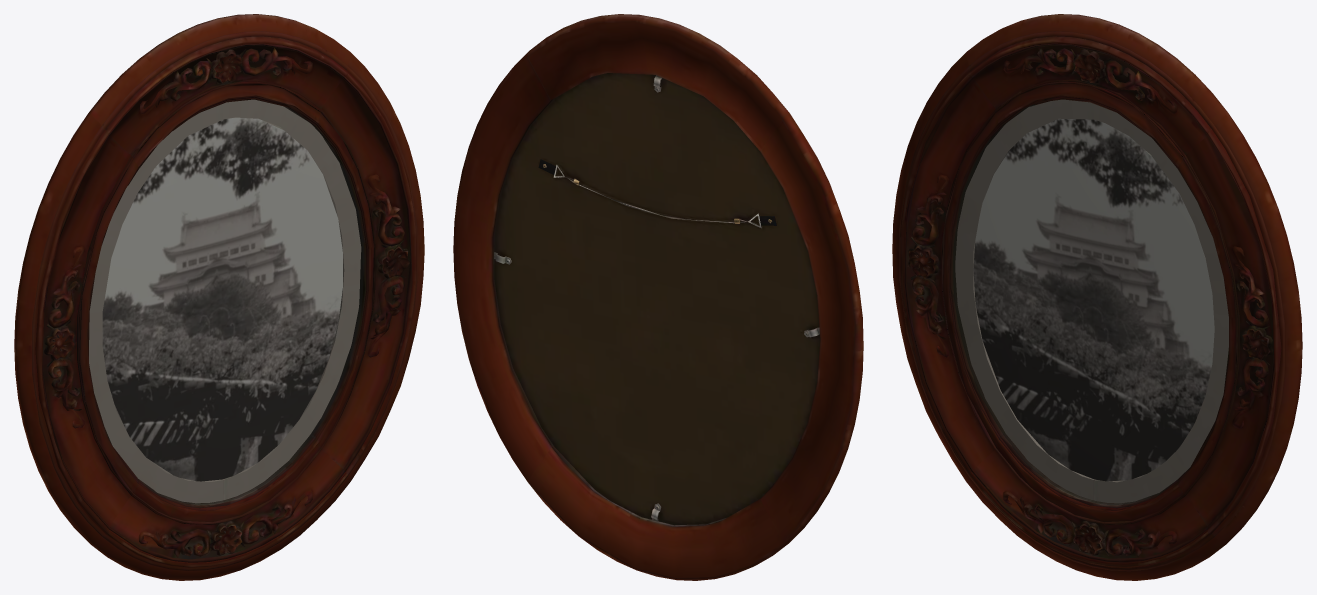
The model's file is hanging_picture_frame_03.glb.
3 views of the same model, side by side, from view 1: azimuth 30°, elevation 25°; view 2: azimuth 150°, elevation 25°; view 3: azimuth 330°, elevation 25° (orthographic).
Parts seen in each view (by area): view 1: hanging_picture_frame_03, hanging_picture_frame_03_glass; view 2: hanging_picture_frame_03; view 3: hanging_picture_frame_03, hanging_picture_frame_03_glass.
Part boxes in pixels (box(x1,y1,x2,y2)): hanging_picture_frame_03: box(14, 14, 424, 580); hanging_picture_frame_03_glass: box(89, 100, 363, 504); hanging_picture_frame_03: box(453, 14, 863, 580); hanging_picture_frame_03: box(892, 14, 1302, 580); hanging_picture_frame_03_glass: box(953, 100, 1228, 504).
Bounding box in the file's own units: 0.3847 × 0.502 × 0.0318.
Materials: 3 (2 with a texture image).
